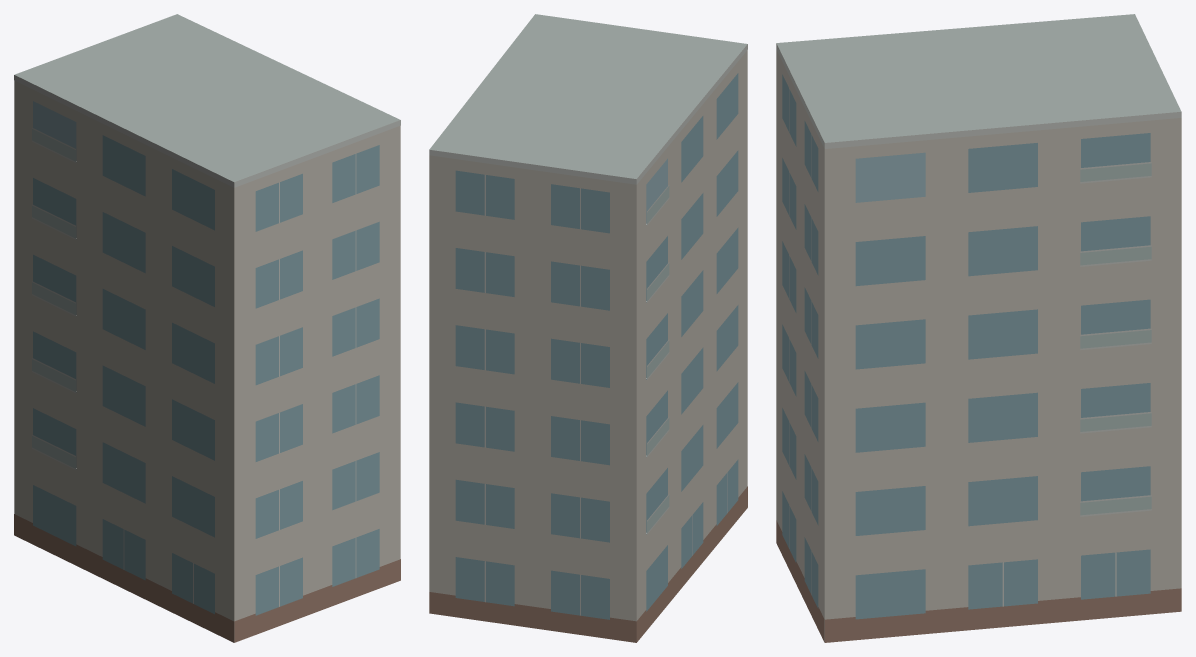
Rendered from survey-upis-32982788.glb.
The picture shows the model from 3 angles, left to right: view 1: azimuth 30°, elevation 25°; view 2: azimuth 150°, elevation 25°; view 3: azimuth 270°, elevation 25°; orthographic projection. The views are drawn at different scales.
Visible parts, largest first — view 1: survey-upis-32982788.tmp; view 2: survey-upis-32982788.tmp; view 3: survey-upis-32982788.tmp.
Boxes of the visible parts, x1,y1,x2,y2 form: survey-upis-32982788.tmp: (14,14,400,642); survey-upis-32982788.tmp: (429,14,747,642); survey-upis-32982788.tmp: (776,14,1181,642).
Bounding box in the file's own units: 11.09 × 20.02 × 14.72.
